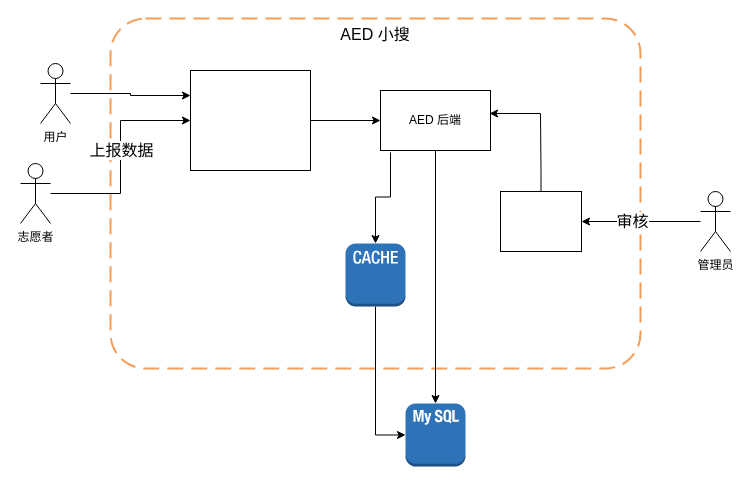
This 750x484 diagram has some shape labels left out. Each missing label, with the box of its shape:
AED 后台管理: (500, 190, 582, 252)
AED 小程序: (190, 70, 310, 170)
